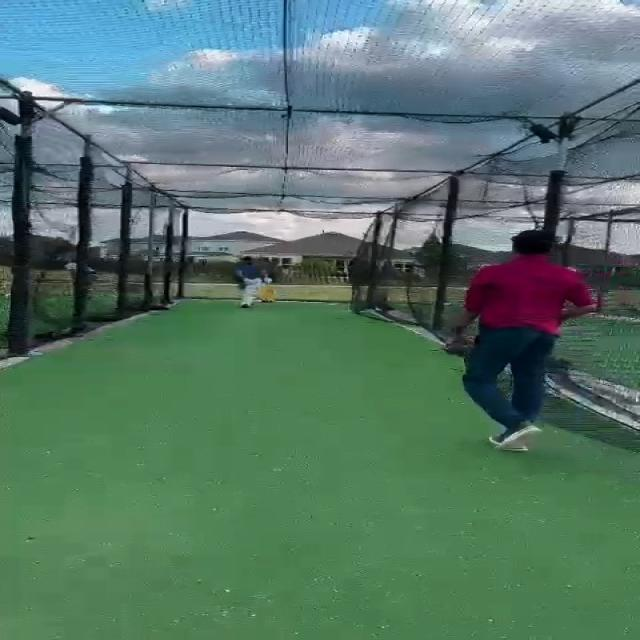batsman: (233, 255, 275, 309)
